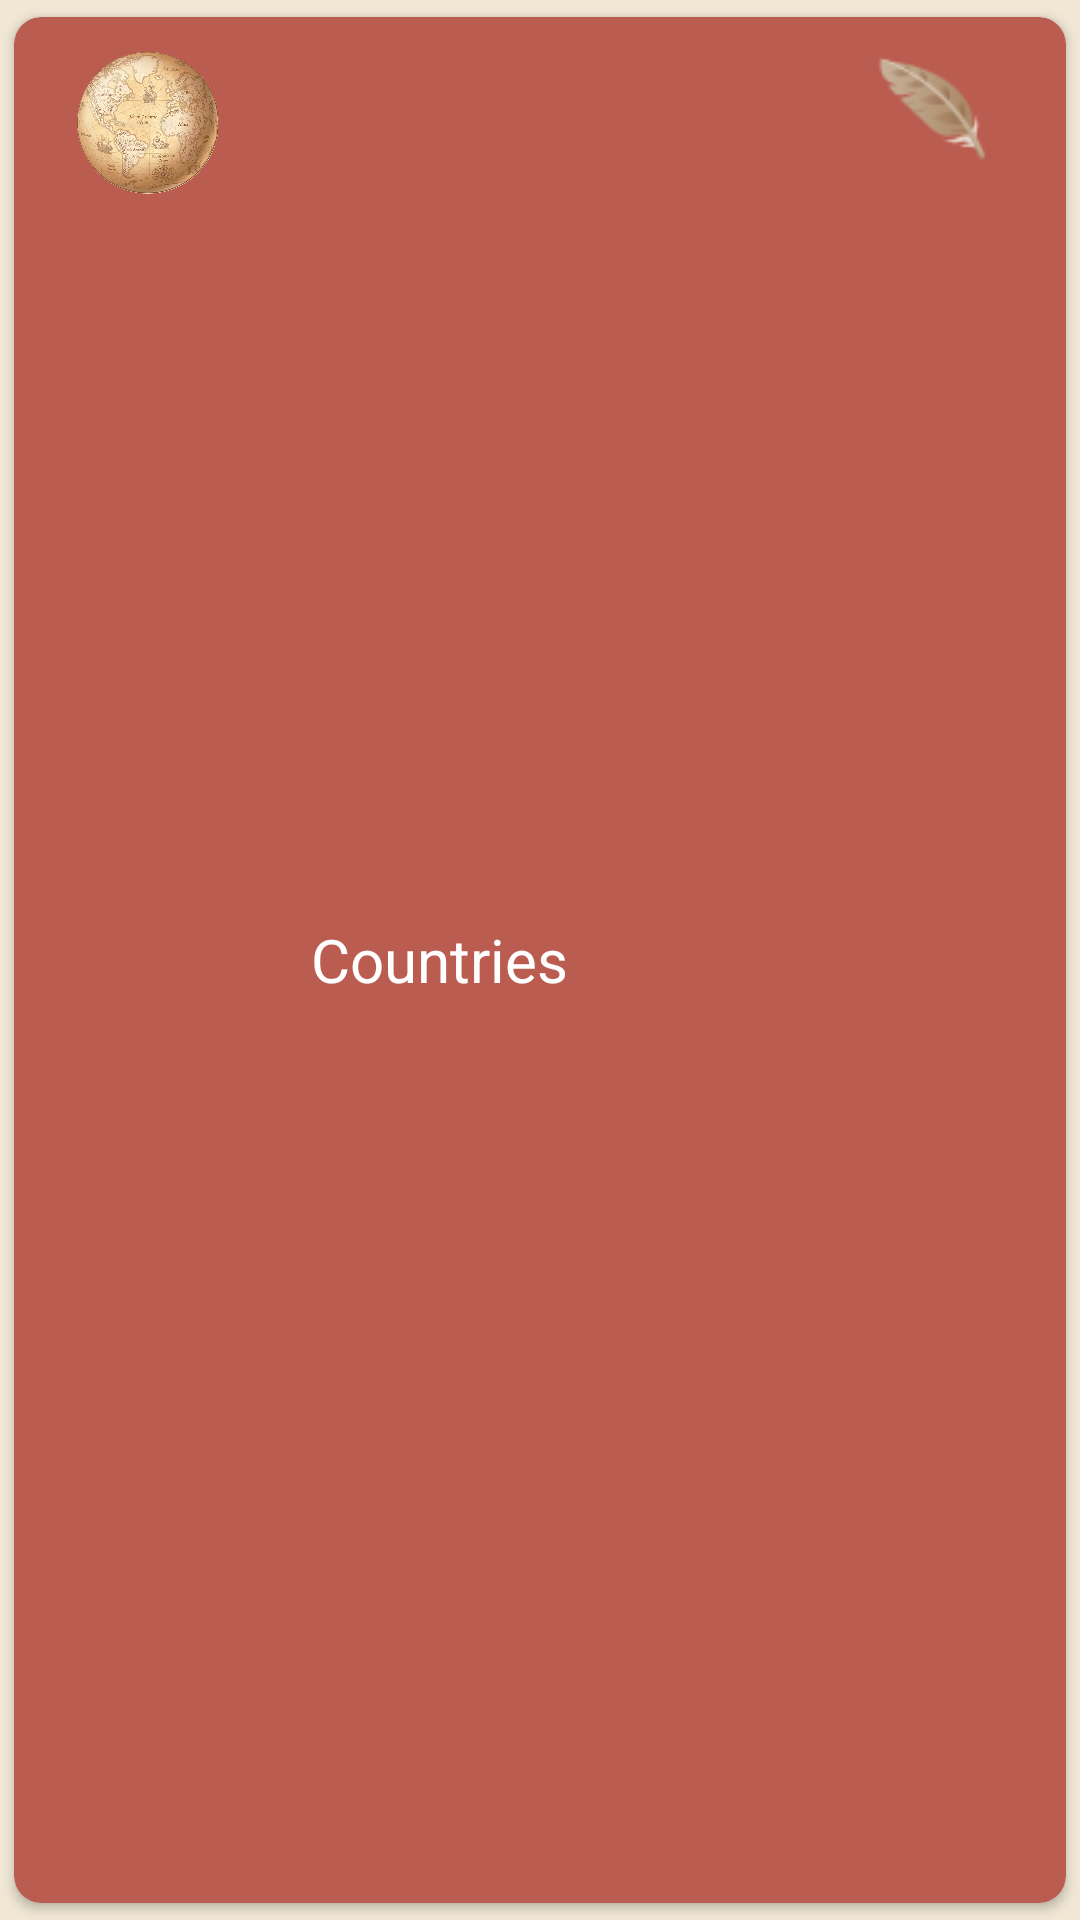

Where icons sit on this 1080 x 1920 app screen, as (x1, y1, x2, y2):
feather: (879, 59, 985, 158)
old globe: (77, 52, 219, 194)
